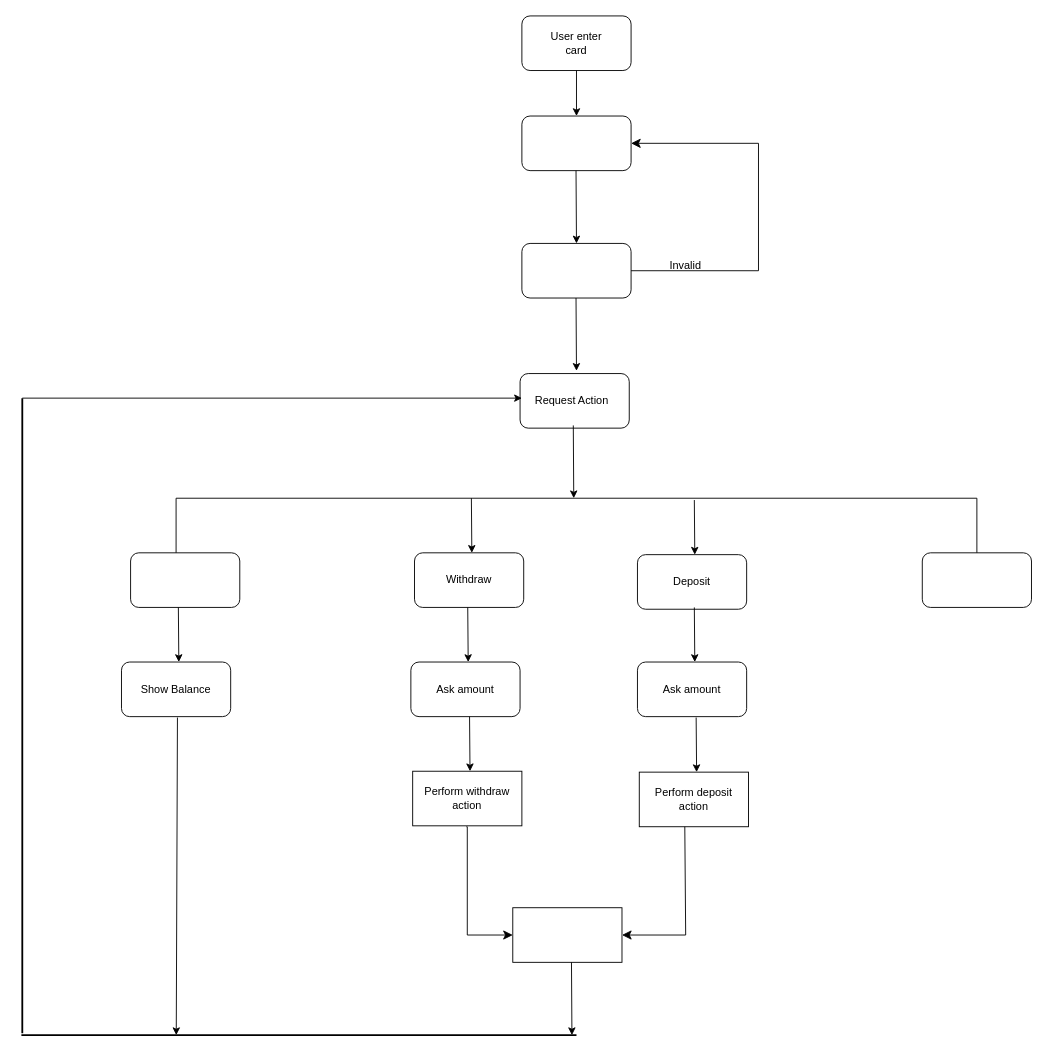
Image size: 1047x1058. Some labels were removed from this diagram. Each missing label, with the centre of its shape:
Ask Pin: point (576, 143)
Display result: point (567, 934)
Exit: point (976, 579)
Validate Details: point (576, 270)
View Balance: point (185, 579)
